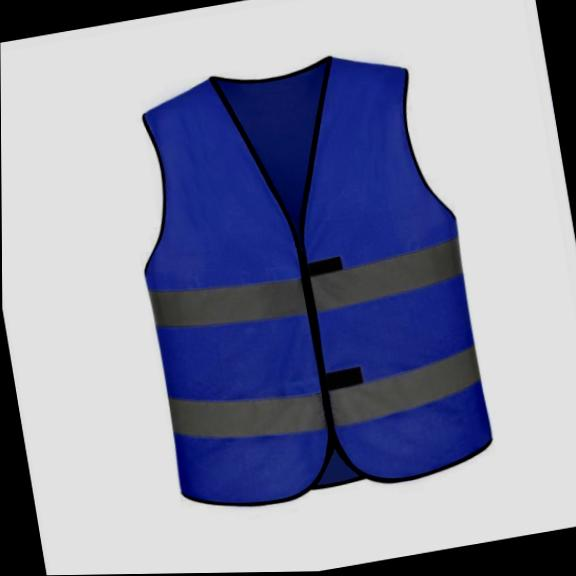safety_vest: (114, 37, 498, 521)
